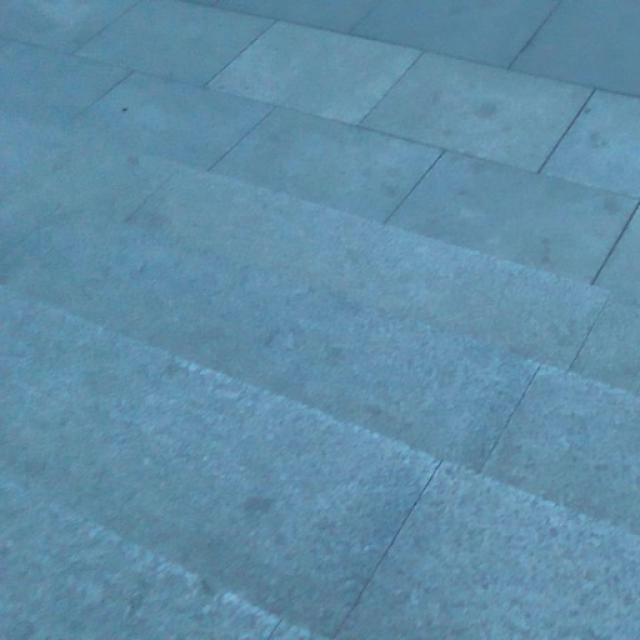stair: (0, 196, 619, 640)
